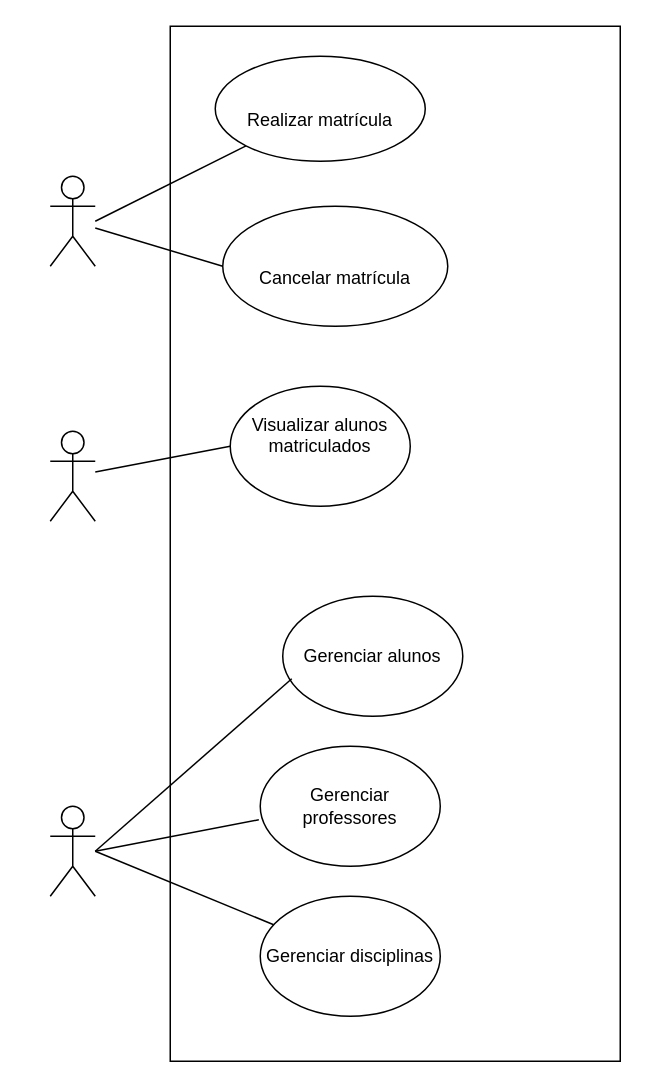
This 647x1088 diagram has some shape labels left out. The box of each missing label's shape, as (x1, y1, x2, y2) in pixels:
Aluno: (49, 175, 95, 266)
Funcionario da Secretária: (49, 805, 95, 896)
Professor: (49, 430, 95, 521)
